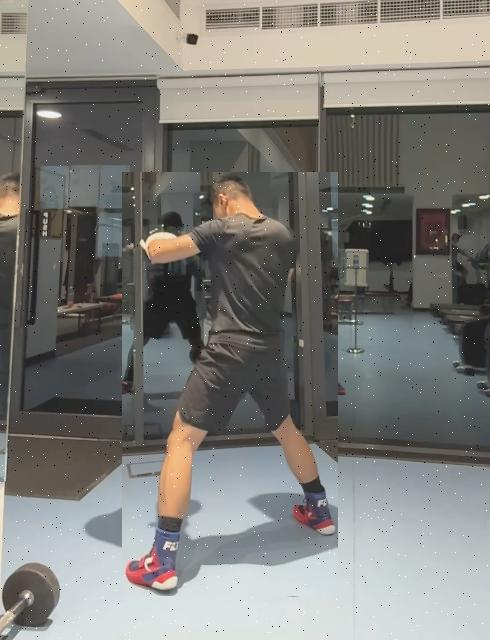punch: (122, 172, 338, 596)
